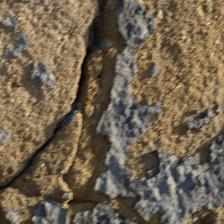Crack: (31, 6, 114, 112), (0, 37, 86, 90)
